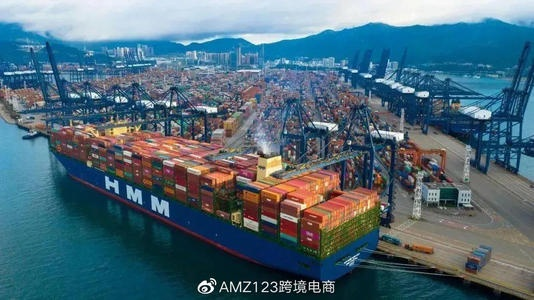Cargoship: (42, 114, 380, 278)
